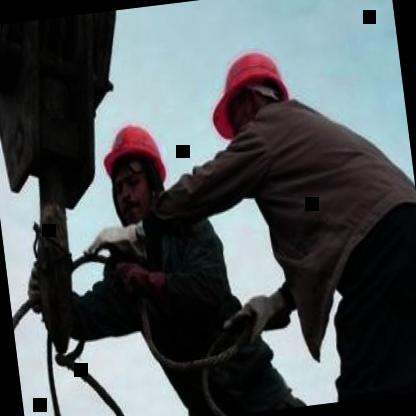helmet: (202, 34, 306, 154), (90, 104, 174, 233)
